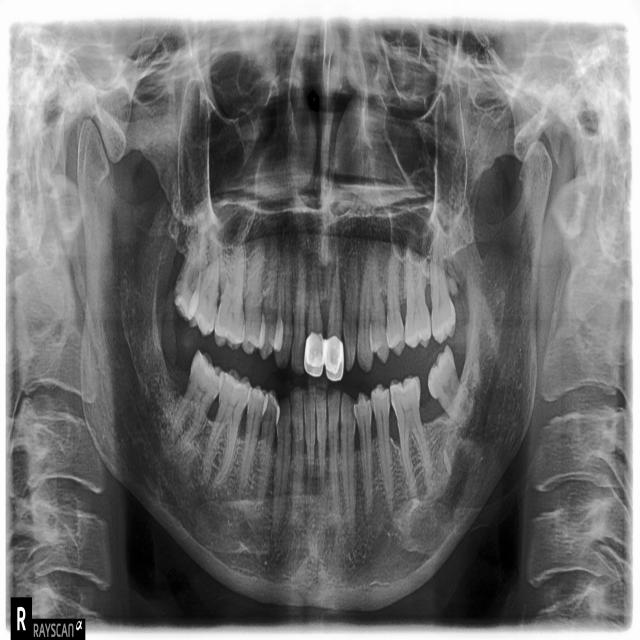mandibula: (77, 119, 553, 611)
